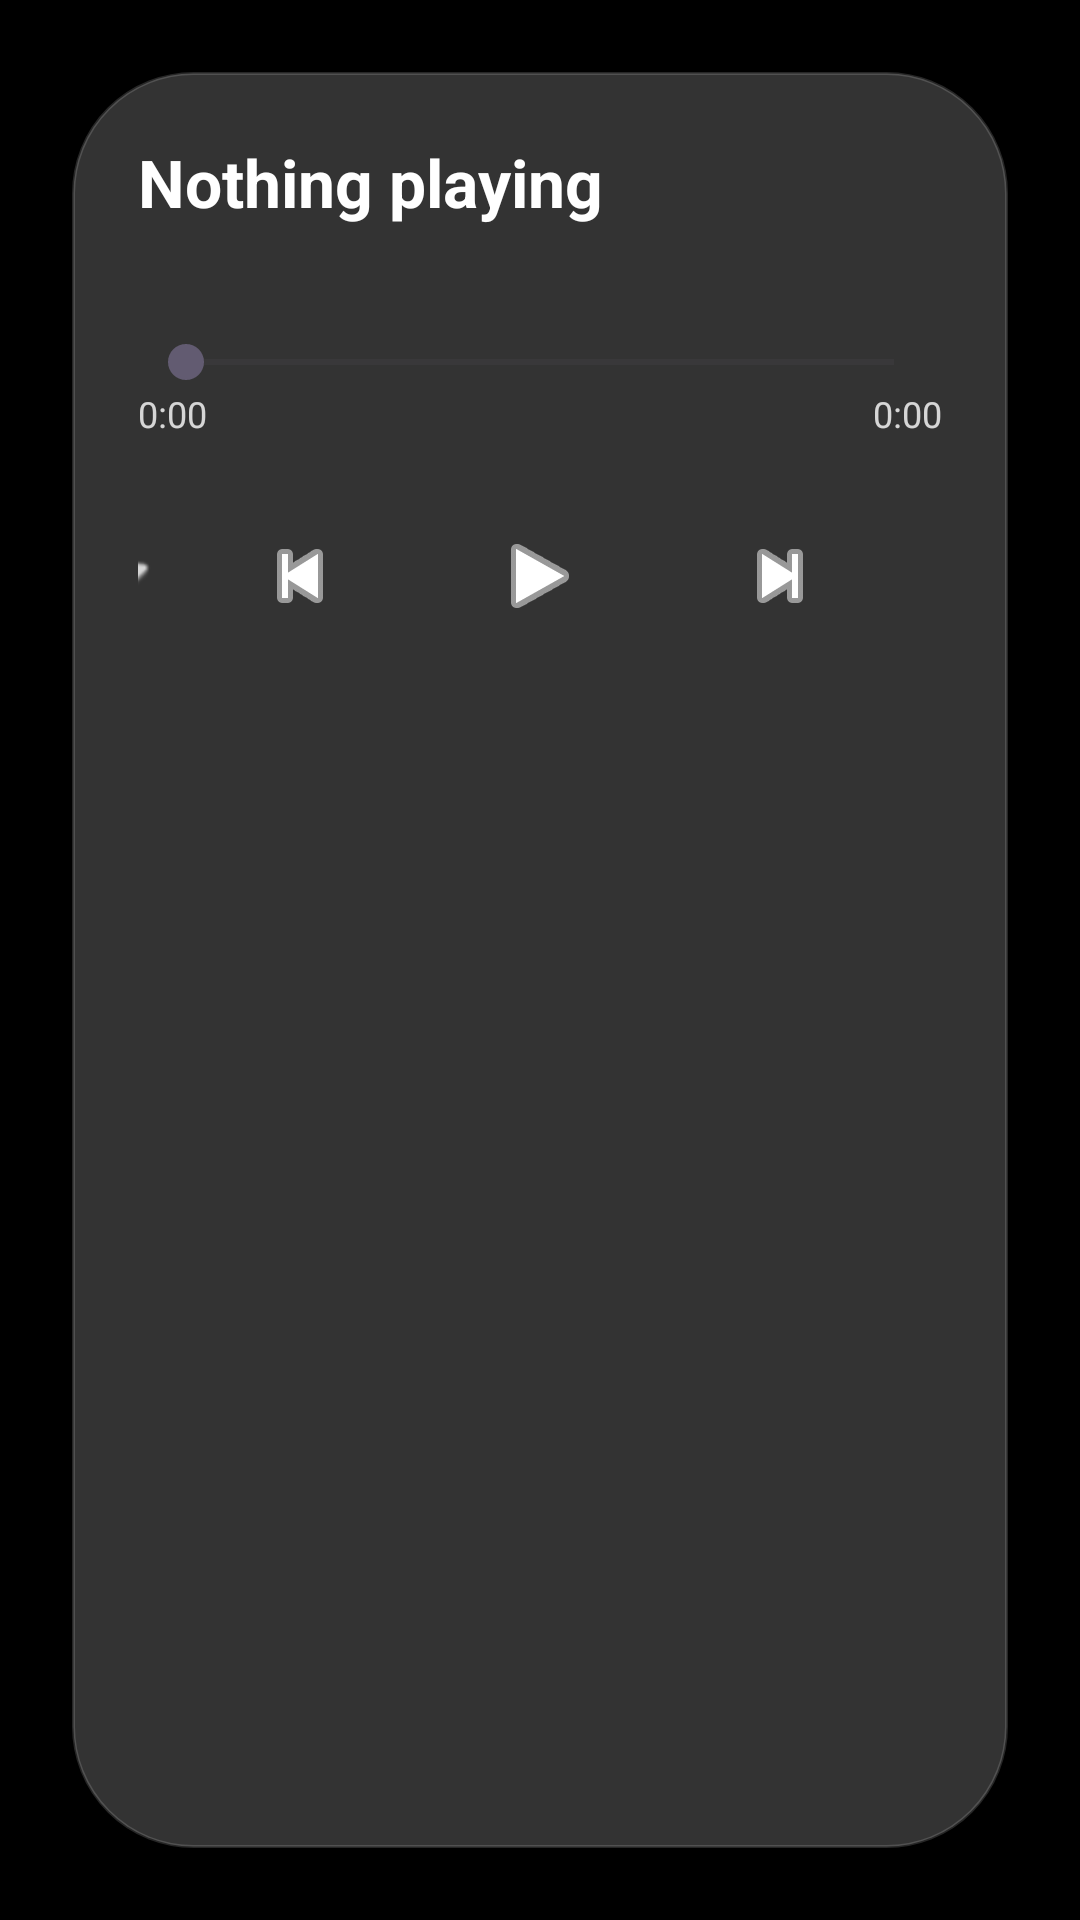

Where to tap for icons on this 1080px x 1920px app screen, as (x,y):
Next: (780,576)
Play or pause: (540,576)
Previous: (300,576)
